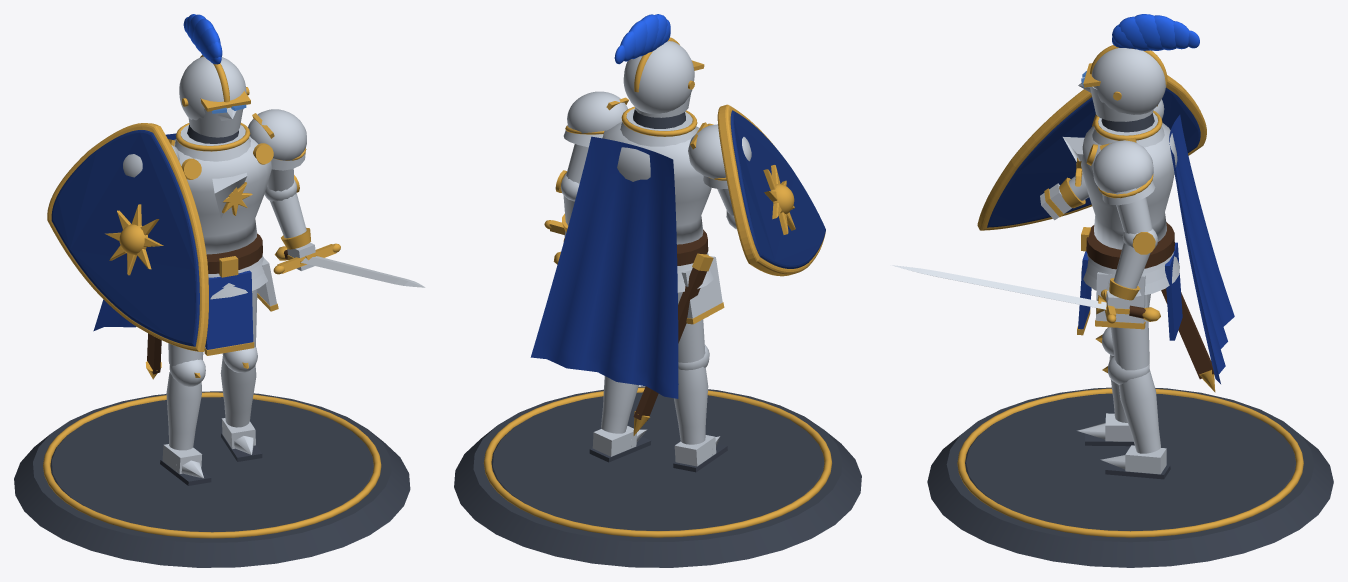
The model's file is valorian-knight.glb.
The picture shows the model from 3 angles, left to right: view 1: azimuth 30°, elevation 25°; view 2: azimuth 150°, elevation 25°; view 3: azimuth 270°, elevation 25°; orthographic projection. The views are drawn at different scales.
Visible parts, largest first — view 1: PedestalUpper, KiteShieldCore, PedestalLower, BreastplateCuirass, PedestalBrassInlay, KiteShieldBrassRim, SurcoatFrontSkirt, HelmetSkullBowl, RightPauldron, LeftGreave, RightGreave, ArmoredGorget (+14 smaller); view 2: PedestalUpper, RoyalMantleCape, PedestalLower, KiteShieldCore, PedestalBrassInlay, BreastplateCuirass, HelmetSkullBowl, KiteShieldBrassRim, LeftGreave, RightPauldron, HipScabbard, LeftPauldron (+11 smaller); view 3: PedestalUpper, PedestalLower, KiteShieldCore, RoyalMantleCape, PedestalBrassInlay, BreastplateCuirass, HelmetSkullBowl, KiteShieldBrassRim, RightPauldron, RightGreave, RightCuisse, KnightBelt (+15 smaller).
Boxes of the visible parts, left/top/right/bottom form: PedestalUpper: left=50, top=397, right=373, bottom=532; KiteShieldCore: left=51, top=130, right=199, bottom=346; PedestalLower: left=14, top=391, right=410, bottom=567; BreastplateCuirass: left=173, top=136, right=272, bottom=254; PedestalBrassInlay: left=43, top=392, right=381, bottom=538; KiteShieldBrassRim: left=47, top=123, right=208, bottom=351; SurcoatFrontSkirt: left=205, top=270, right=253, bottom=349; HelmetSkullBowl: left=179, top=56, right=246, bottom=120; RightPauldron: left=248, top=109, right=306, bottom=160; LeftGreave: left=166, top=372, right=201, bottom=450; RightGreave: left=220, top=356, right=256, bottom=427; ArmoredGorget: left=175, top=125, right=250, bottom=161; PedestalUpper: left=491, top=392, right=824, bottom=530; RoyalMantleCape: left=530, top=136, right=678, bottom=398; PedestalLower: left=454, top=386, right=861, bottom=567; KiteShieldCore: left=730, top=110, right=825, bottom=268; PedestalBrassInlay: left=483, top=387, right=832, bottom=537; BreastplateCuirass: left=602, top=121, right=711, bottom=244; HelmetSkullBowl: left=623, top=41, right=694, bottom=113; KiteShieldBrassRim: left=717, top=104, right=825, bottom=276; LeftGreave: left=674, top=367, right=708, bottom=444; RightPauldron: left=567, top=91, right=627, bottom=133; HipScabbard: left=633, top=253, right=713, bottom=435; LeftPauldron: left=688, top=124, right=751, bottom=178; PedestalUpper: left=965, top=393, right=1296, bottom=531; PedestalLower: left=927, top=387, right=1333, bottom=567; KiteShieldCore: left=987, top=87, right=1200, bottom=227; RoyalMantleCape: left=1169, top=115, right=1234, bottom=383; PedestalBrassInlay: left=957, top=388, right=1303, bottom=537; BreastplateCuirass: left=1081, top=122, right=1177, bottom=249; HelmetSkullBowl: left=1091, top=48, right=1166, bottom=114; KiteShieldBrassRim: left=977, top=75, right=1206, bottom=230; RightPauldron: left=1092, top=140, right=1153, bottom=193; RightGreave: left=1118, top=369, right=1160, bottom=453; RightCuisse: left=1111, top=294, right=1149, bottom=370; KnightBelt: left=1086, top=222, right=1174, bottom=269.
Size of the model in its own units: 1.68 by 2.14 by 1.83.
